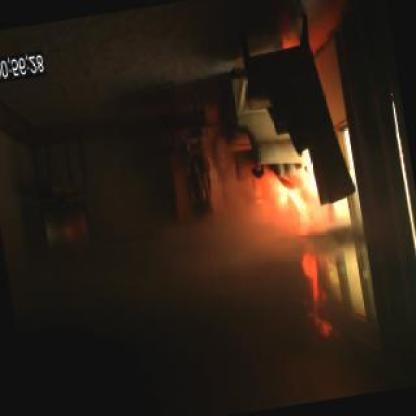Fire: (300, 256, 333, 347), (274, 170, 314, 229)
